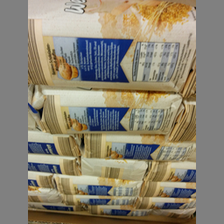flour: (28, 1, 194, 91), (28, 88, 182, 138), (80, 136, 161, 161)
